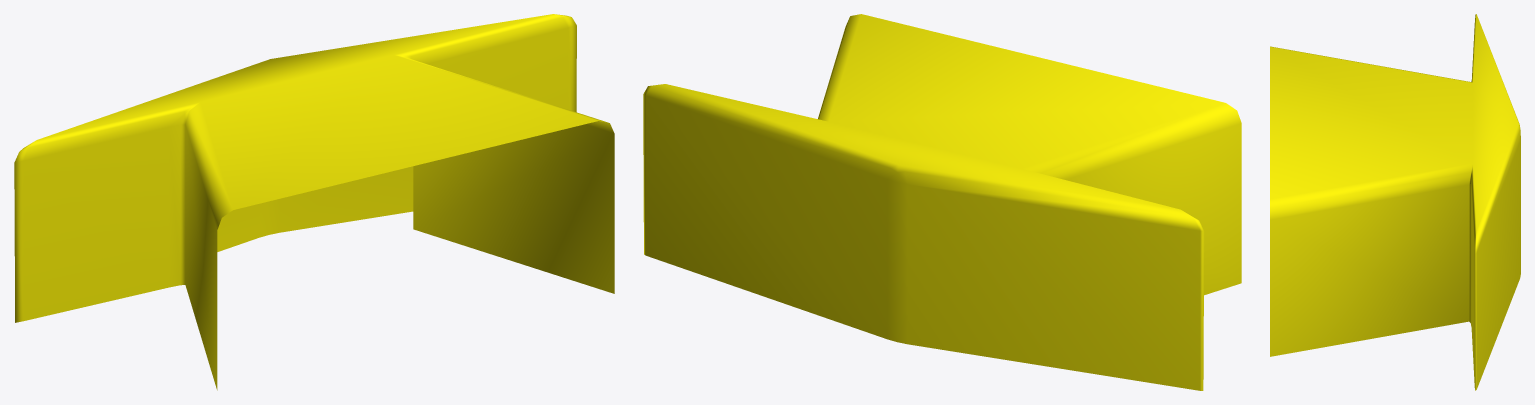
The model's file is Arrow.glb.
3 renders of one model, left to right at view 1: azimuth 30°, elevation 25°; view 2: azimuth 150°, elevation 25°; view 3: azimuth 270°, elevation 25°, orthographic. The views are drawn at different scales.
Visible parts, largest first — view 1: Arrow; view 2: Arrow; view 3: Arrow.
Boxes of the visible parts, left/top/right/bottom form: Arrow: left=14, top=14, right=614, bottom=390; Arrow: left=643, top=14, right=1241, bottom=390; Arrow: left=1270, top=14, right=1520, bottom=390.
Size of the model in its own units: 0.027 by 0.00811 by 0.0122.
Materials: 1 (1 with a texture image).
